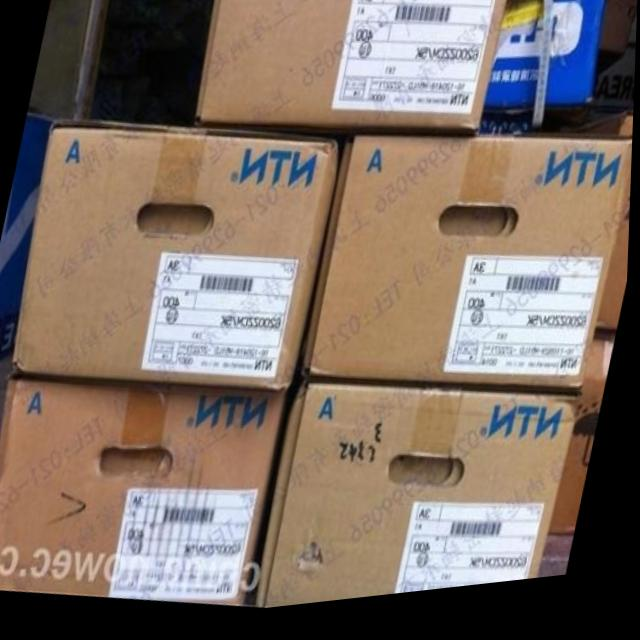box: (15, 121, 339, 394), (305, 143, 634, 403), (260, 388, 586, 614), (0, 368, 290, 612), (196, 0, 510, 146), (551, 340, 618, 549), (597, 159, 634, 344)
